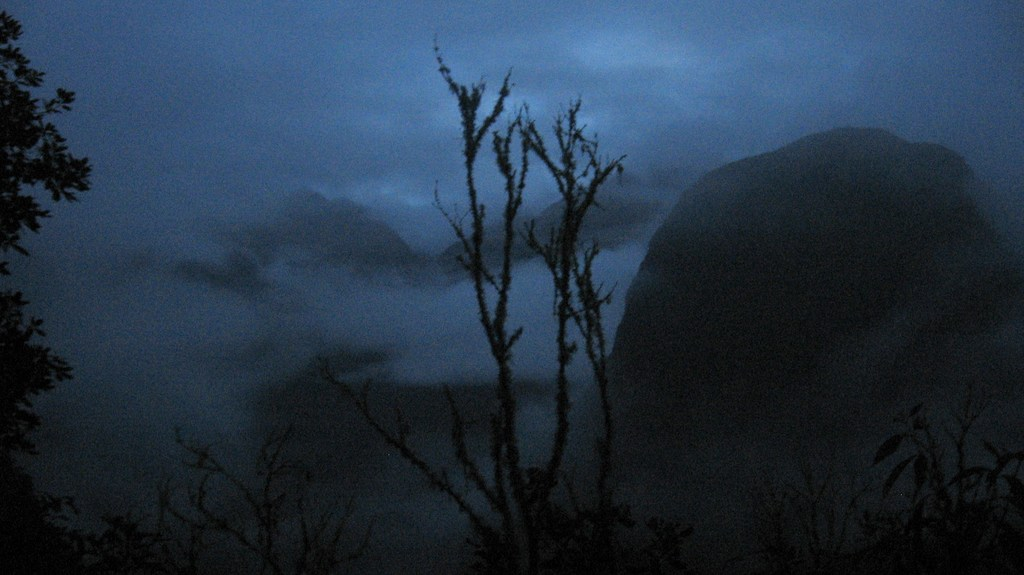Tree: (321, 32, 687, 573), (766, 380, 1023, 574), (0, 5, 99, 458), (99, 423, 378, 569)
